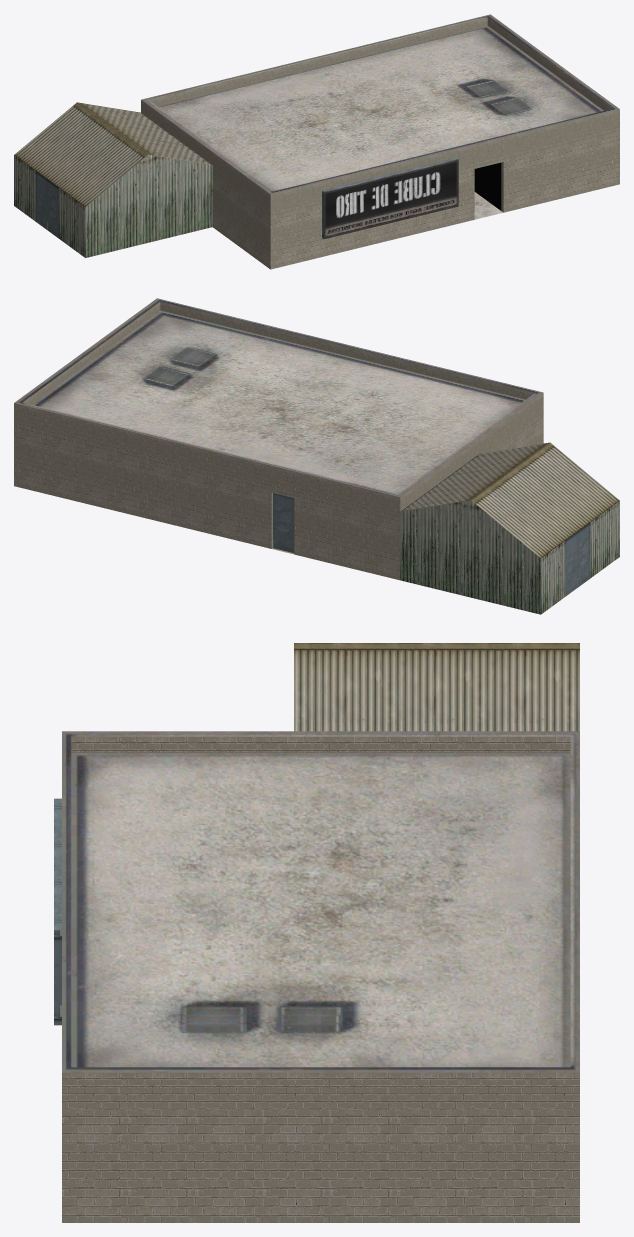
Rendered from desn2_ammun.obj.
3 renders of one model, top to bottom at view 1: azimuth 30°, elevation 25°; view 2: azimuth 150°, elevation 25°; view 3: azimuth 270°, elevation 25°, orthographic. The views are drawn at different scales.
Visible parts, largest first — view 1: desn2_ammun; view 2: desn2_ammun; view 3: desn2_ammun.
Boxes of the visible parts, x1=… form: desn2_ammun: x1=14, y1=14, x2=619, y2=269; desn2_ammun: x1=14, y1=298, x2=619, y2=614; desn2_ammun: x1=54, y1=643, x2=579, y2=1222.
Bounding box in the file's own units: 24.55 × 4.34 × 11.73.
8 materials, 8 textured.
